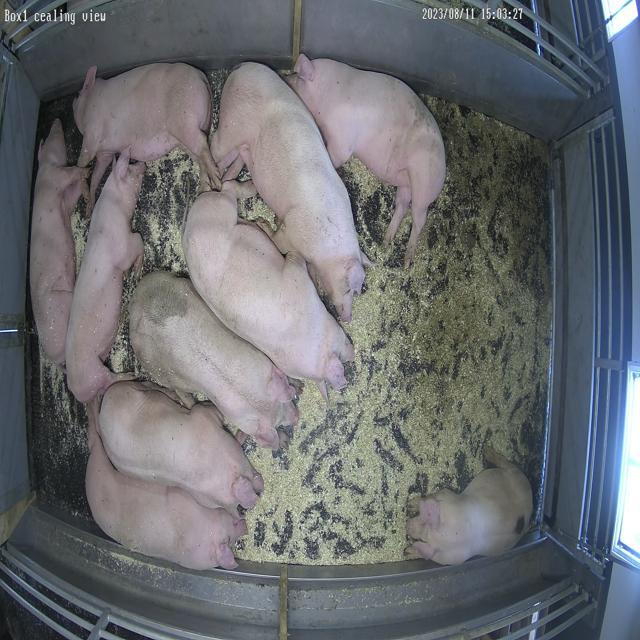Dirt: (416, 96, 549, 360)
Pig: (211, 62, 365, 322), (183, 181, 354, 396), (288, 54, 447, 266), (128, 272, 298, 448), (85, 416, 245, 571), (97, 382, 264, 516), (65, 151, 145, 402), (73, 63, 220, 186), (29, 119, 87, 366), (407, 462, 534, 566)
